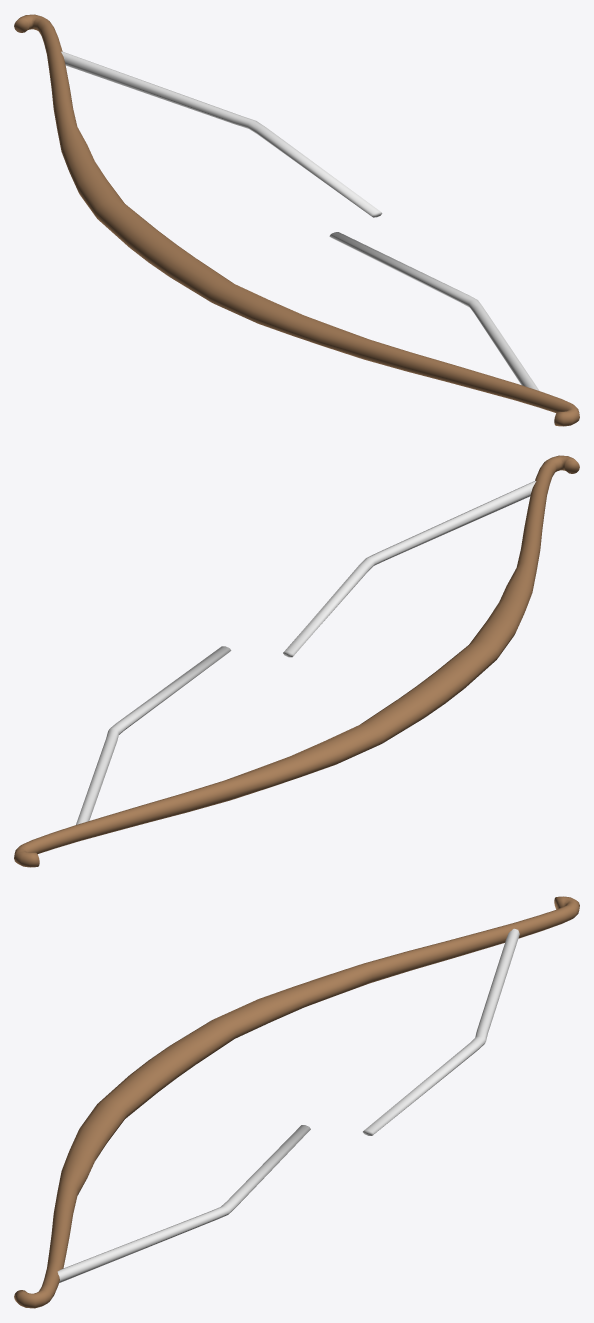
The model's file is Broken_Bow.fbx.
3 views of the same model, one above another, from view 1: azimuth 30°, elevation 25°; view 2: azimuth 150°, elevation 25°; view 3: azimuth 330°, elevation 25° (orthographic).
Visible parts, largest first — view 1: Broken_Bow; view 2: Broken_Bow; view 3: Broken_Bow.
Boxes of the visible parts, x1=… form: Broken_Bow: x1=14, y1=14, x2=579, y2=426; Broken_Bow: x1=14, y1=455, x2=579, y2=867; Broken_Bow: x1=14, y1=896, x2=579, y2=1308.
Size of the model in its own units: 36.66 by 3.57 by 150.
